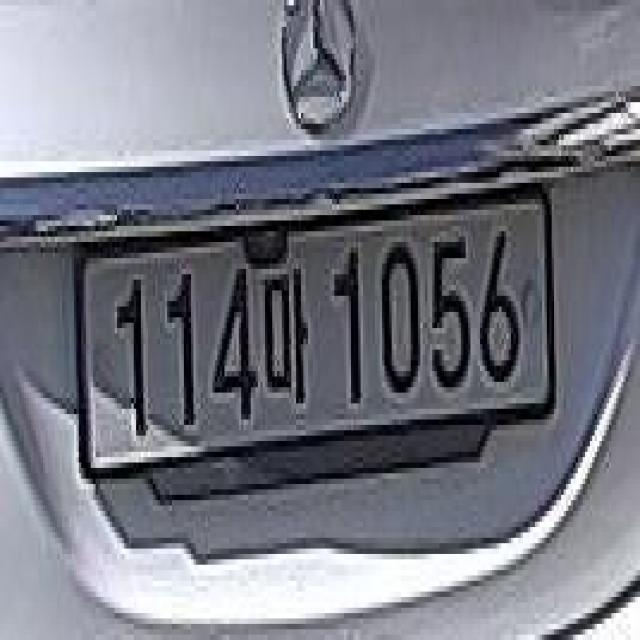illegal_plate: (73, 176, 561, 498)
